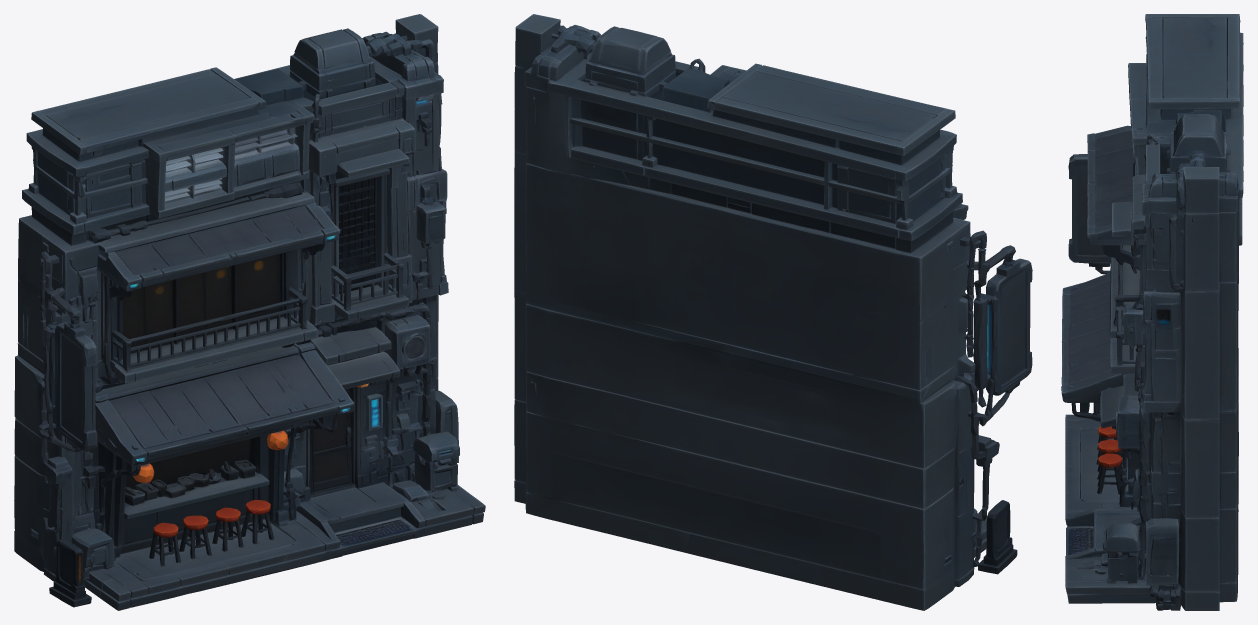
File: scene-detail.glb
3 renders of one model, left to right at view 1: azimuth 30°, elevation 25°; view 2: azimuth 150°, elevation 25°; view 3: azimuth 270°, elevation 25°, orthographic. The views are drawn at different scales.
Visible parts, largest first — view 1: model; view 2: model; view 3: model.
Boxes of the visible parts, <box> form: model: <box>14,14,485,610</box>; model: <box>514,14,1032,610</box>; model: <box>1061,14,1243,610</box>.
Bounding box in the file's own units: 1.82 × 1.9 × 0.7116.
Materials: 1 (1 with a texture image).
